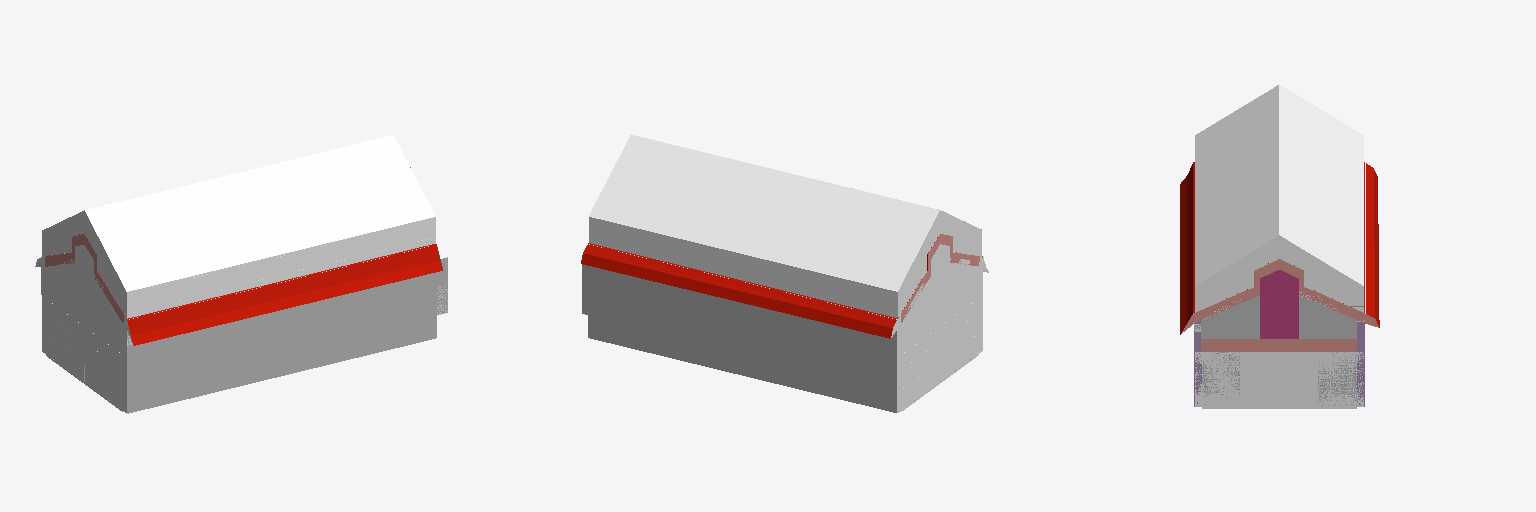
The model's file is barnbegin.obj.
The picture shows the model from 3 angles: view 1: azimuth 30°, elevation 25°; view 2: azimuth 150°, elevation 25°; view 3: azimuth 270°, elevation 25°; orthographic projection.
Visible parts, largest first — view 1: Cube, Cube.1, Cube.2; view 2: Cube, Cube.1, Cube.2; view 3: Cube, Cube.1, Cube.2.
Part boxes in pixels (x1,y1,x2,y2): Cube: (42,135,435,411); Cube.1: (35,233,447,413); Cube.2: (46,230,123,412); Cube: (589,135,981,411); Cube.1: (581,233,988,412); Cube.2: (900,230,978,411); Cube: (1195,84,1363,406); Cube.1: (1180,162,1379,406); Cube.2: (1202,264,1356,408).
Size of the model in its own units: 24864 by 12137 by 12471.